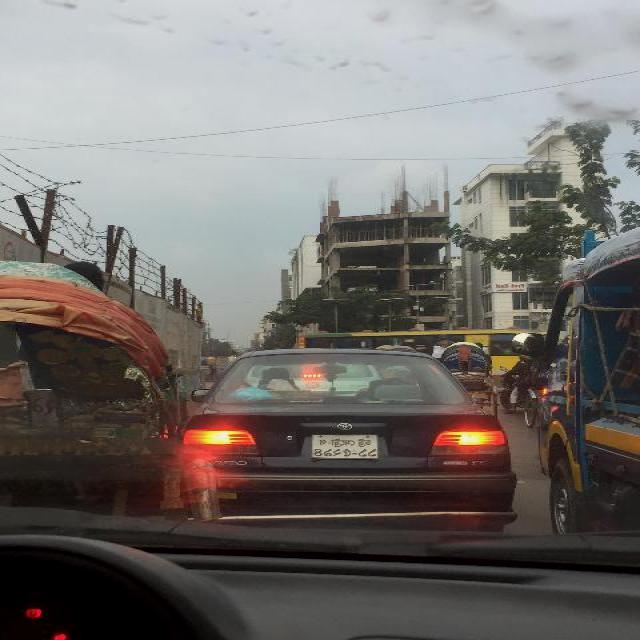black: (163, 348, 529, 518)
